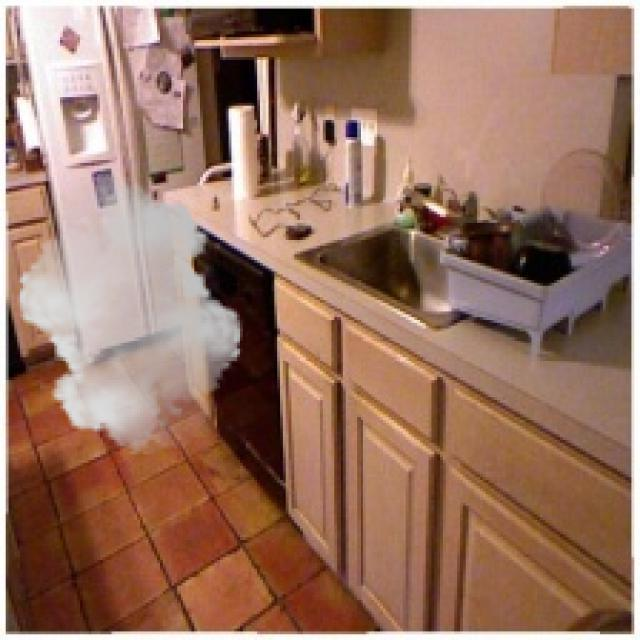Smoke: (8, 177, 252, 454)
